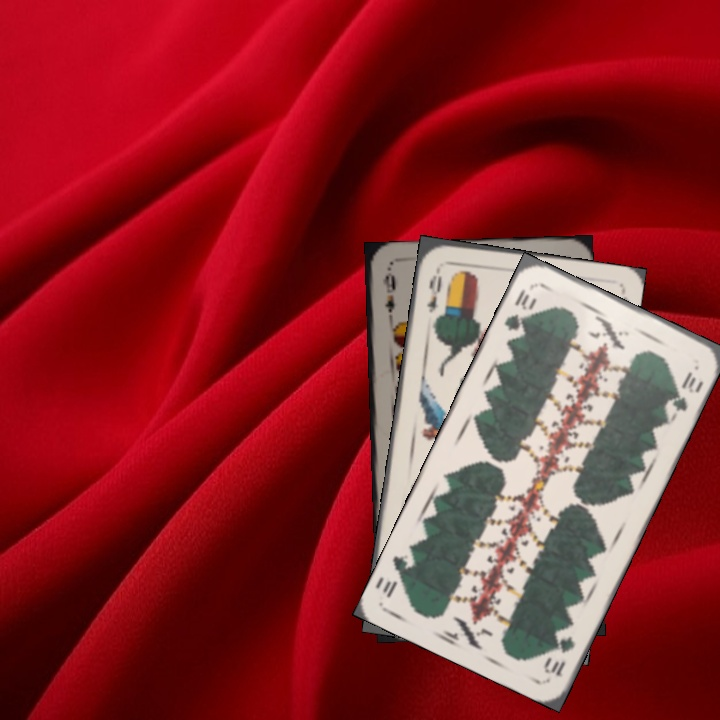E9: (378, 268, 399, 326)
EO: (422, 263, 445, 315)
G10: (500, 284, 540, 342), (540, 632, 578, 679)
